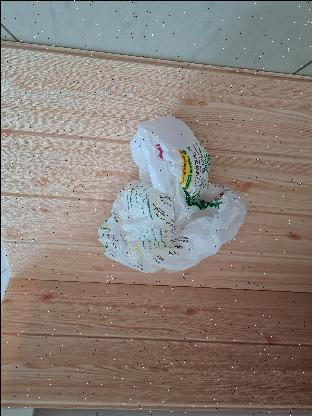Others: (94, 113, 246, 273)
